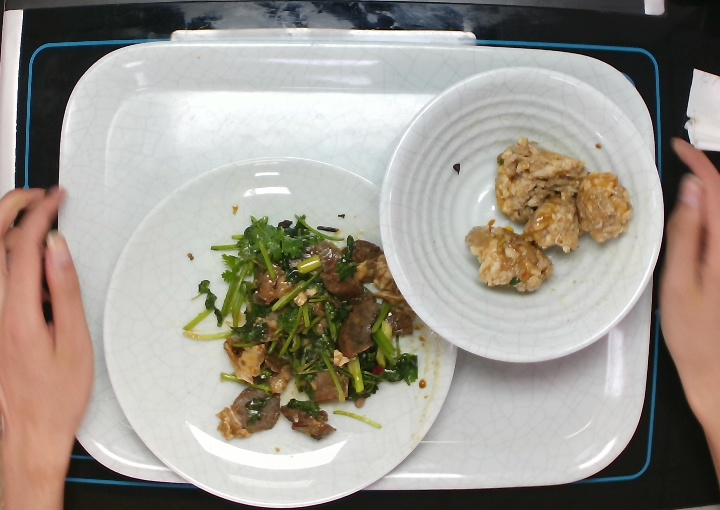JYsf-Da_Yuan_Pan: (98, 152, 461, 510)
JYsf-Xiao_Tang_Wan: (373, 62, 669, 369)
